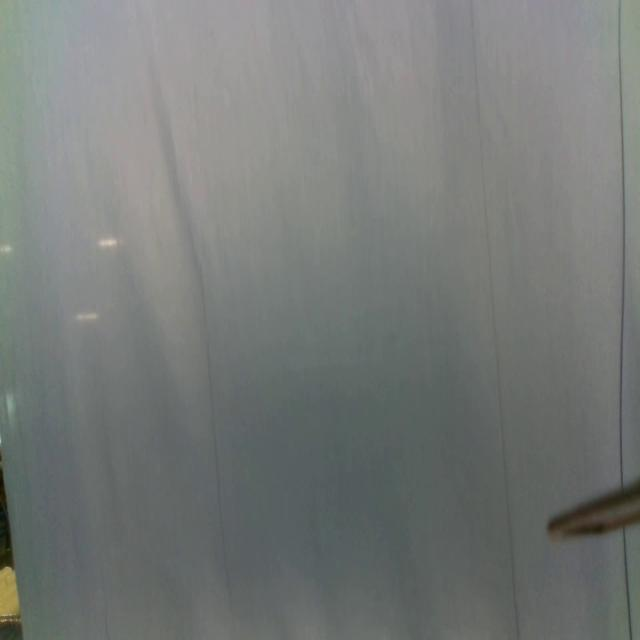crease: (471, 1, 519, 640), (198, 271, 233, 602), (617, 0, 628, 484), (622, 525, 633, 640)
